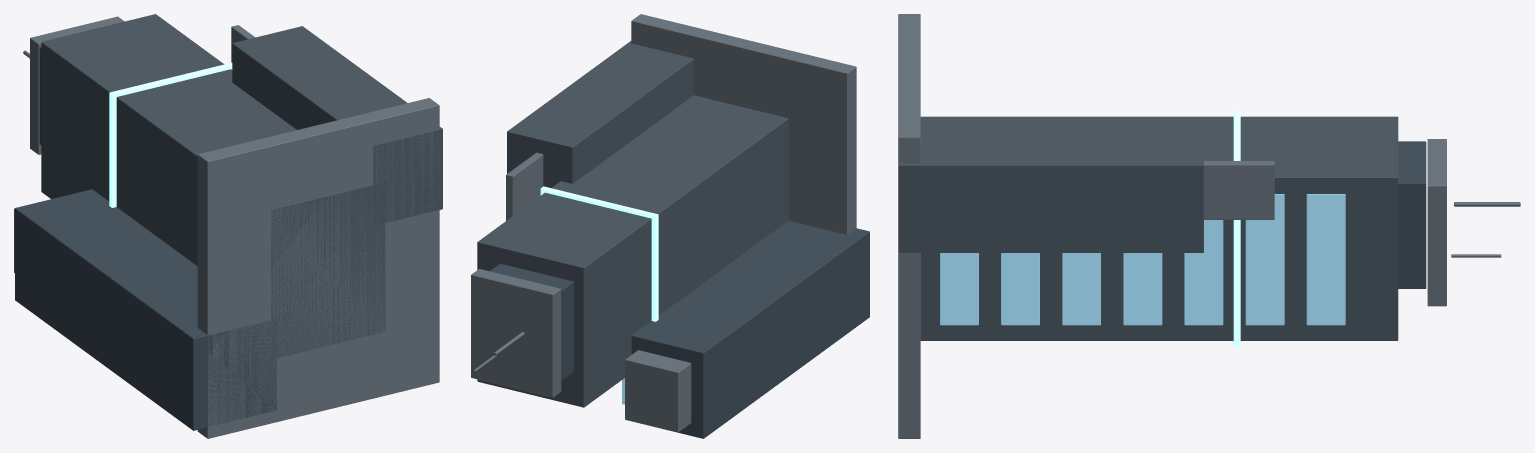
Rendered from mass_tower_cluster_rift_l.glb.
The picture shows the model from 3 angles, left to right: view 1: azimuth 30°, elevation 25°; view 2: azimuth 150°, elevation 25°; view 3: azimuth 270°, elevation 25°; orthographic projection. The views are drawn at different scales.
Parts seen in each view (by area): view 1: FlightKit_MassTower_rift_L; view 2: FlightKit_MassTower_rift_L; view 3: FlightKit_MassTower_rift_L.
Part boxes in pixels (x1,y1,x2,y2): FlightKit_MassTower_rift_L: (14, 14, 442, 438); FlightKit_MassTower_rift_L: (471, 14, 869, 438); FlightKit_MassTower_rift_L: (898, 14, 1520, 438).
Bounding box in the file's own units: 11.3 × 12 × 22.4.
